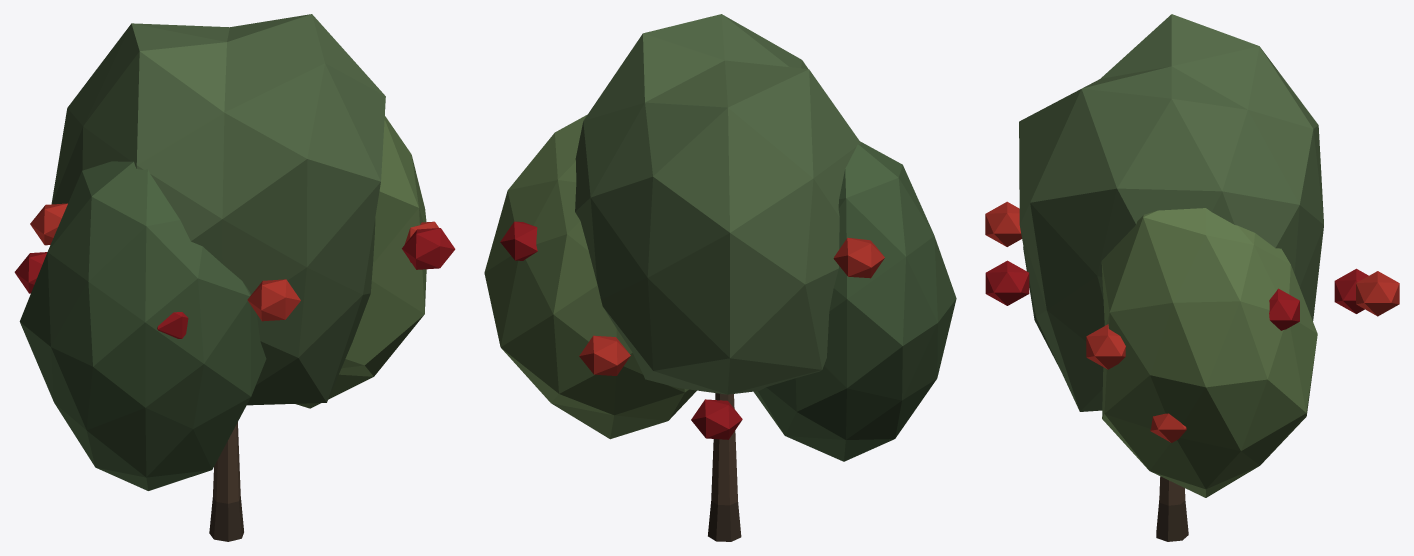
The model's file is tree_bottlebrush.glb.
The picture shows the model from 3 angles, left to right: view 1: azimuth 30°, elevation 25°; view 2: azimuth 150°, elevation 25°; view 3: azimuth 270°, elevation 25°; orthographic projection. The views are drawn at different scales.
Visible parts, largest first — view 1: tree_bottlebrush; view 2: tree_bottlebrush; view 3: tree_bottlebrush.
Boxes of the visible parts, x1=… form: tree_bottlebrush: x1=14, y1=14, x2=455, y2=541; tree_bottlebrush: x1=484, y1=14, x2=956, y2=541; tree_bottlebrush: x1=985, y1=14, x2=1399, y2=541.
Size of the model in its own units: 4.8 by 5.58 by 4.36.
